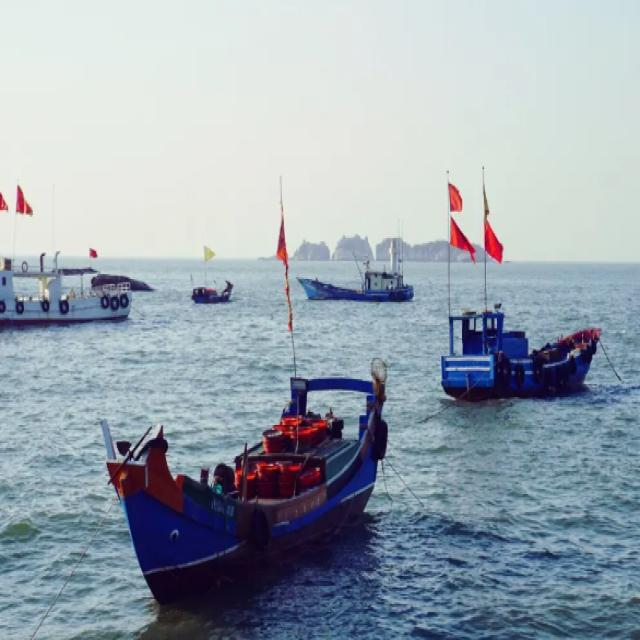fishing boat: (106, 344, 390, 601), (437, 283, 617, 402), (304, 238, 416, 297), (190, 270, 233, 300)
houseboat: (0, 248, 133, 326)
